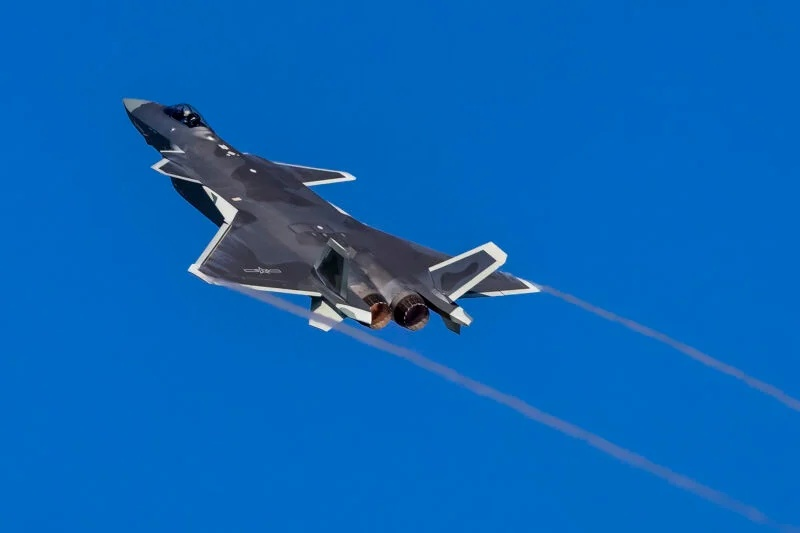J20: (122, 98, 541, 336)
